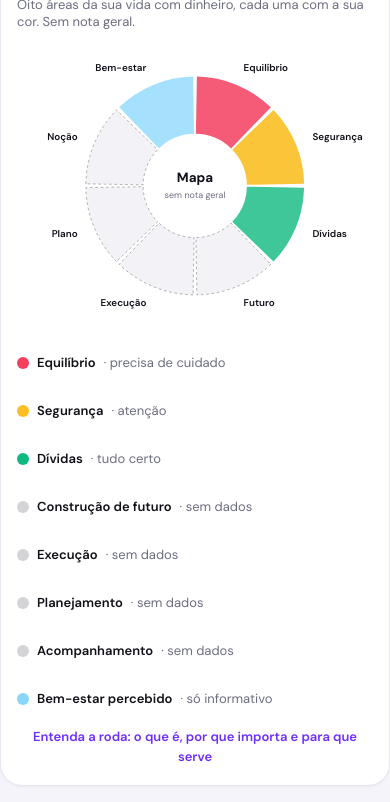
Test: MapaRoda › a explicação responde: o que é, por que importa, para que serve e como ler (e nega a nota geral)
Click the button "Entenda a roda: o que é, por que importa e para que serve": (195, 747) [17, 725, 373, 769]
(page scrolled)
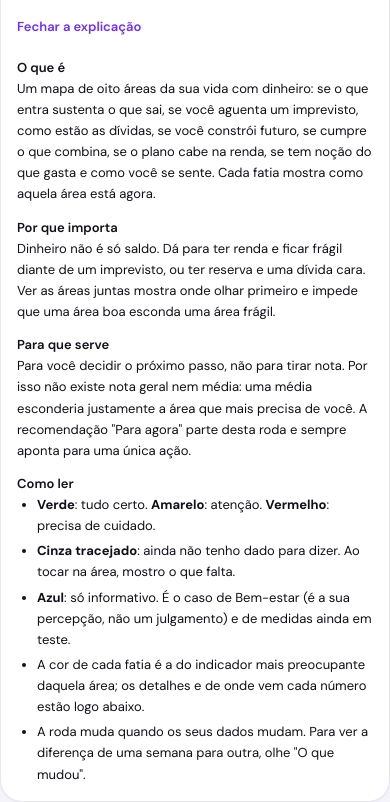
expect the element with test id "roda-explicacao" shows "O que é": met, box [17, 59, 65, 76]
expect the element with test id "roda-explicacao" shows "Por que importa": met, box [17, 219, 118, 236]
expect the element with test id "roda-explicacao" shows "Para que serve": met, box [17, 336, 109, 353]
